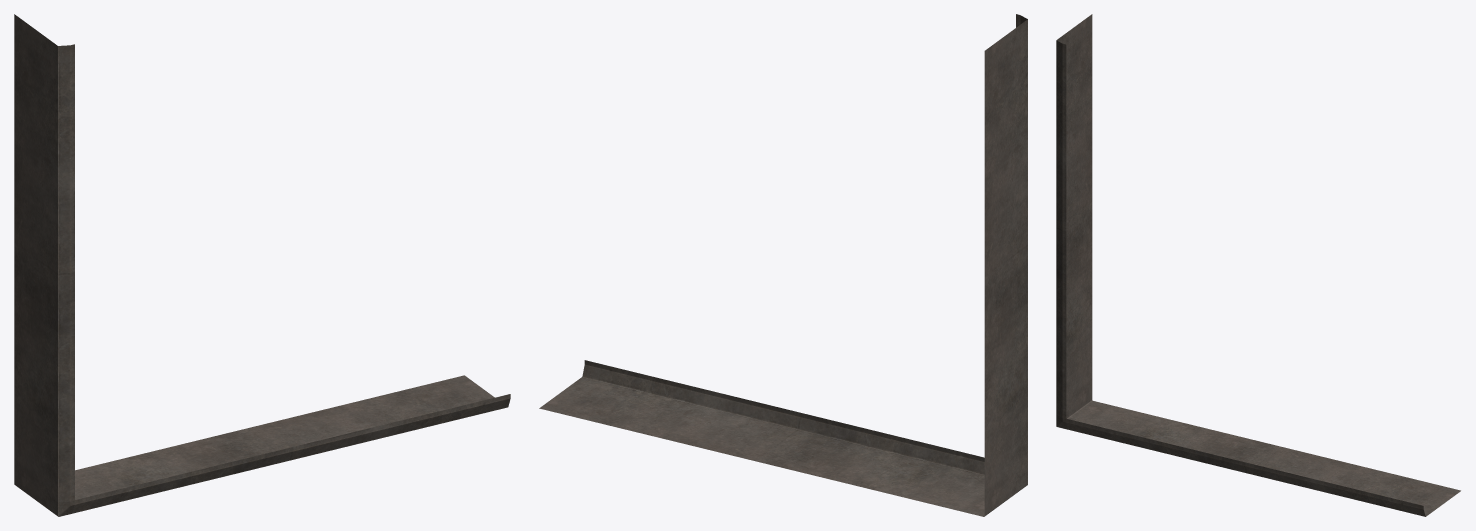
File: dado_standard_corner_large_01.gltf
3 views of the same model, side by side, from view 1: azimuth 30°, elevation 25°; view 2: azimuth 150°, elevation 25°; view 3: azimuth 330°, elevation 25° (orthographic). The views are drawn at different scales.
Visible parts, largest first — view 1: dado_standard_corner_large_01; view 2: dado_standard_corner_large_01; view 3: dado_standard_corner_large_01.
Boxes of the visible parts, box(x1,y1,x2,y2) form: dado_standard_corner_large_01: box(14, 14, 510, 516); dado_standard_corner_large_01: box(539, 14, 1027, 516); dado_standard_corner_large_01: box(1056, 14, 1460, 516).
Bounding box in the file's own units: 3.1 × 3.1 × 0.55.
1 material, 1 textured.
